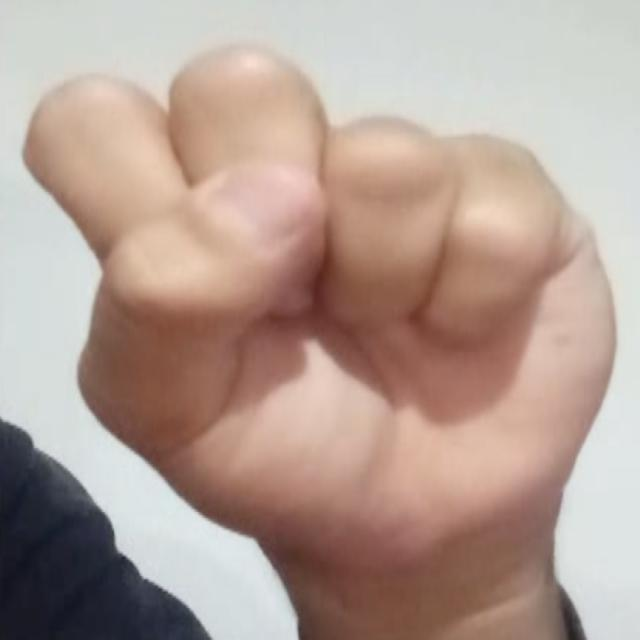S: (16, 33, 626, 607)
